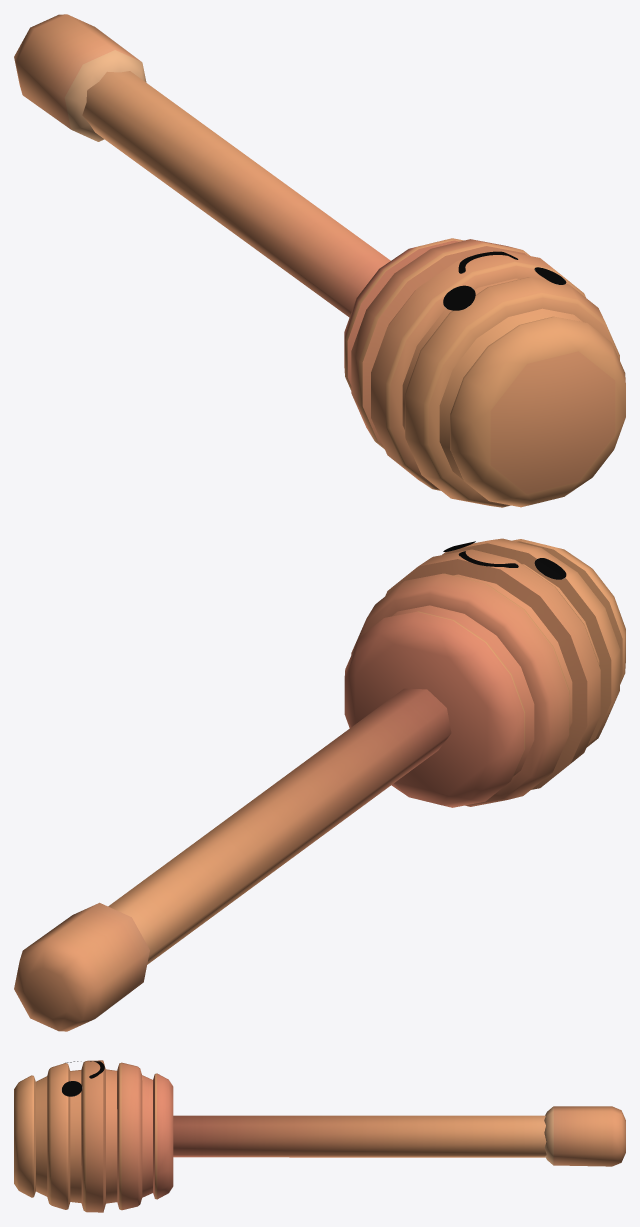
Rendered from honey_stick_smile.fbx.
The picture shows the model from 3 angles, top to bottom: view 1: azimuth 30°, elevation 25°; view 2: azimuth 150°, elevation 25°; view 3: azimuth 270°, elevation 25°; orthographic projection. The views are drawn at different scales.
Visible parts, largest first — view 1: honey_stick_smile; view 2: honey_stick_smile; view 3: honey_stick_smile.
Boxes of the visible parts, x1,y1,x2,y2 form: honey_stick_smile: (14, 14, 625, 507); honey_stick_smile: (14, 538, 625, 1031); honey_stick_smile: (14, 1060, 625, 1212).
Size of the model in its own units: 36.82 by 149 by 37.04.
2 materials, 2 textured.
